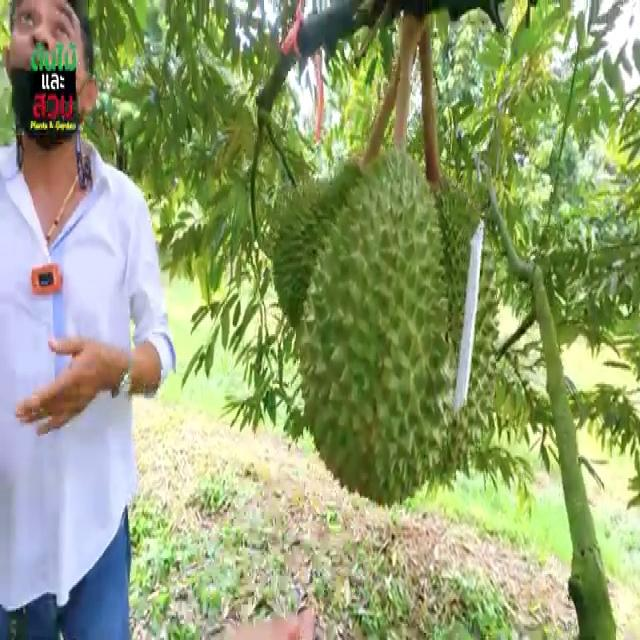durian: (300, 137, 454, 513), (388, 171, 503, 454)
